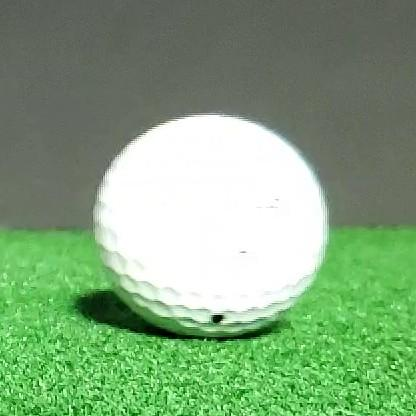golfball: (94, 114, 328, 337)
